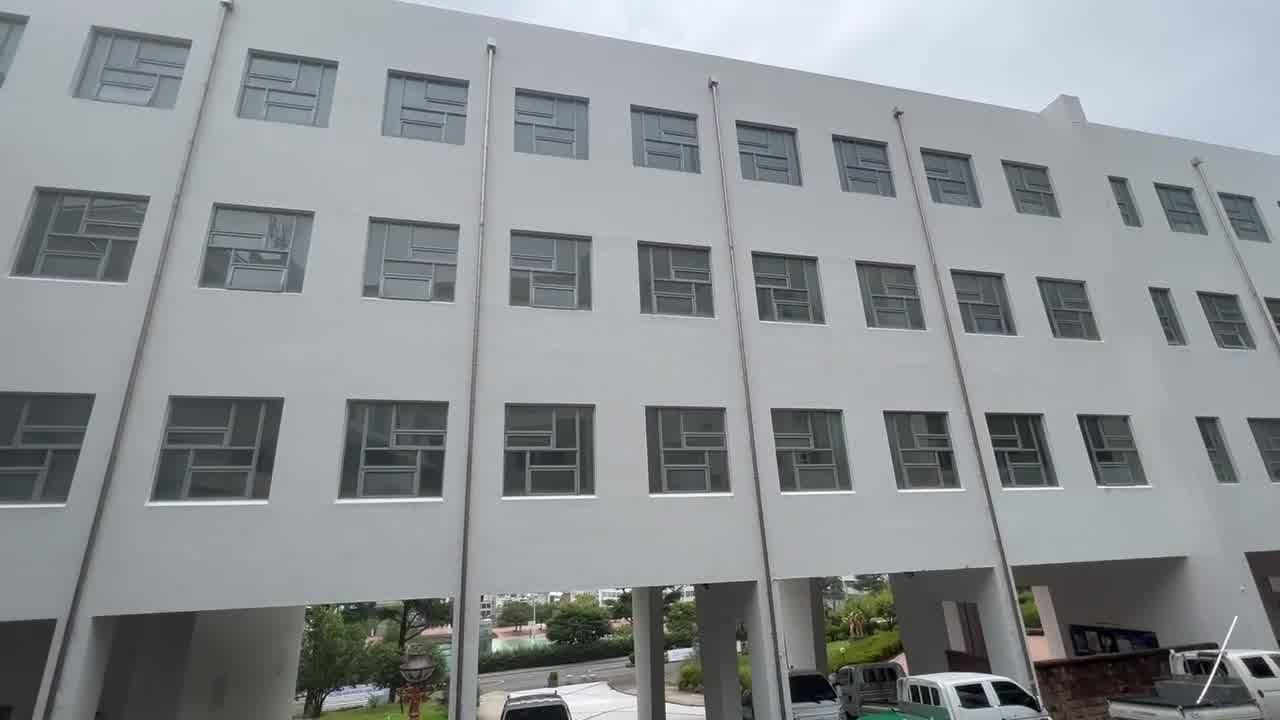building: (14, 0, 1263, 551)
